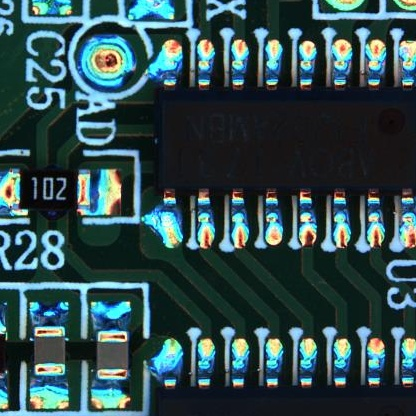spot: (76, 33, 137, 89)
